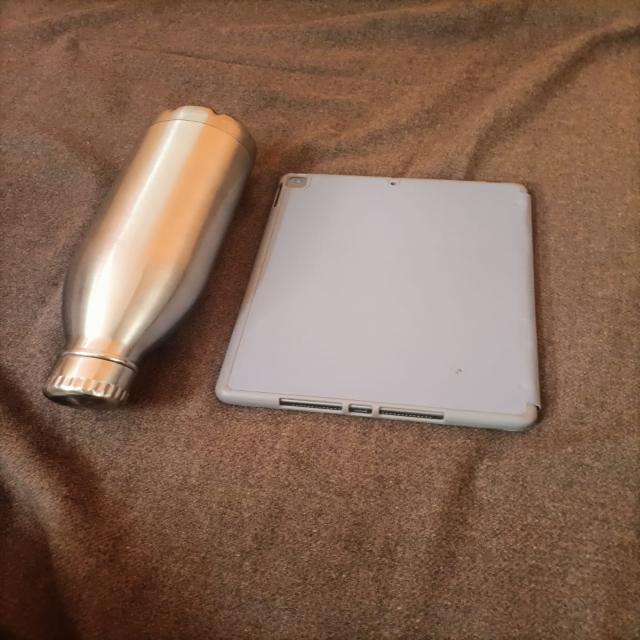bottle: (32, 96, 260, 434)
tablet: (211, 162, 559, 441)
